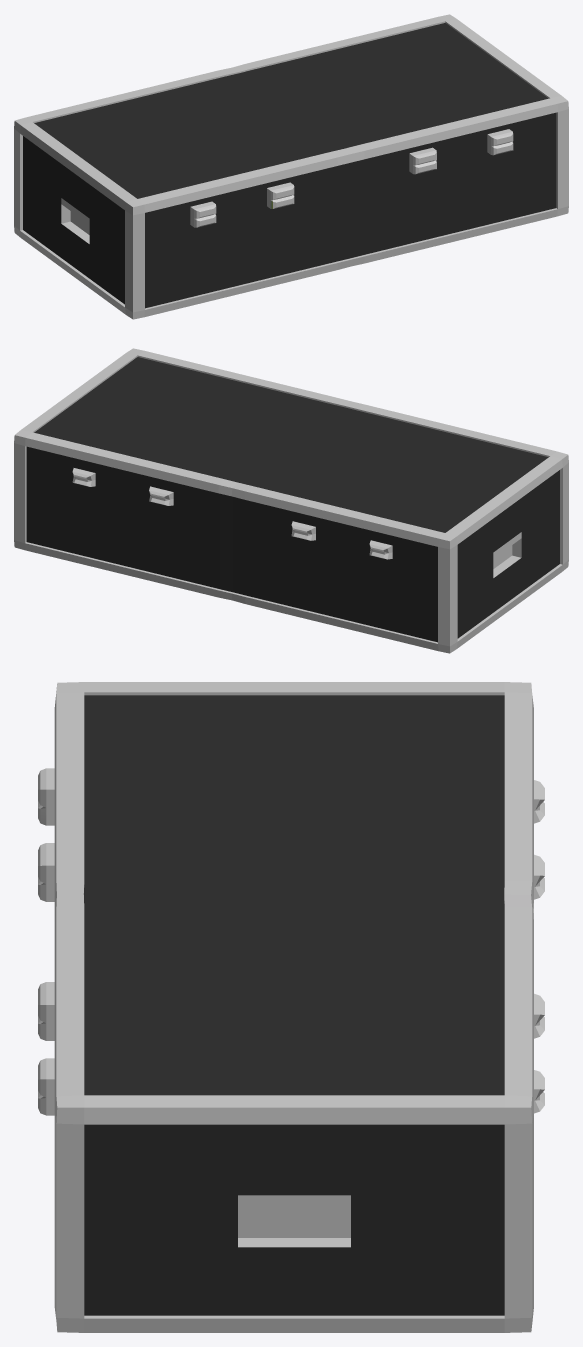
The model's file is LargeBox.fbx.
3 views of the same model, one above another, from view 1: azimuth 30°, elevation 25°; view 2: azimuth 150°, elevation 25°; view 3: azimuth 270°, elevation 25° (orthographic). The views are drawn at different scales.
Parts seen in each view (by area): view 1: Cube.008; view 2: Cube.008; view 3: Cube.008.
Part boxes in pixels (x1=…): Cube.008: x1=14, y1=14, x2=568, y2=319; Cube.008: x1=14, y1=348, x2=568, y2=653; Cube.008: x1=38, y1=682, x2=544, y2=1332.
Bounding box in the file's own units: 199 × 49.42 × 100.
